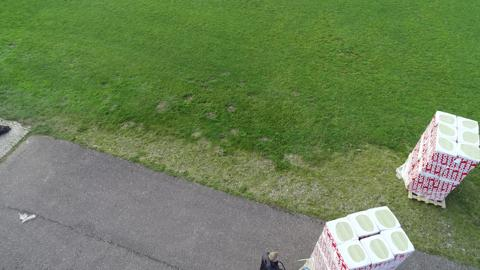RockwoolPallet: (309, 205, 418, 268)
